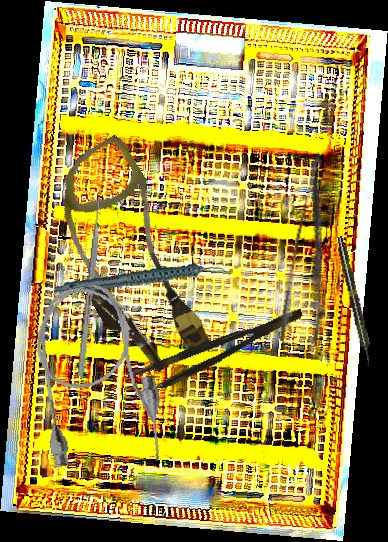Cannula: (23, 132, 235, 384), (23, 277, 171, 479)
Dressing Forceps: (274, 152, 356, 349)
Handpiece: (54, 248, 228, 312), (334, 235, 375, 367)
Pusher: (77, 186, 104, 377)
Tissue Forceps: (126, 306, 310, 399)
